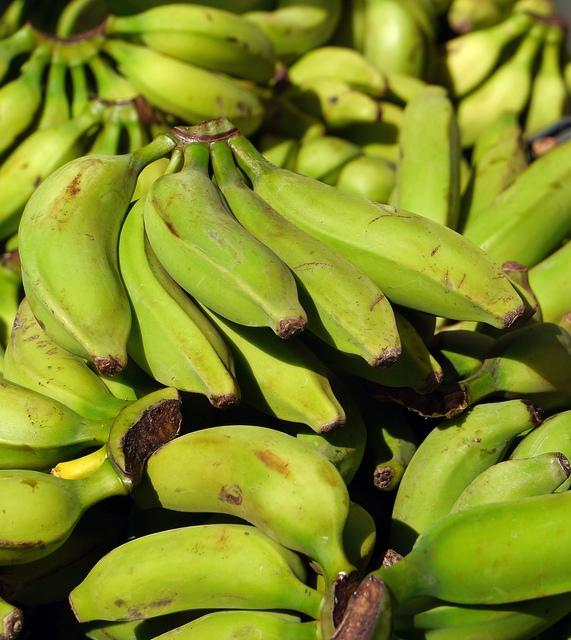banana: (228, 135, 526, 330), (209, 140, 402, 368), (130, 425, 361, 599), (18, 133, 177, 377), (116, 143, 242, 409), (143, 142, 308, 340), (68, 524, 326, 623), (180, 286, 347, 435), (388, 399, 544, 558), (368, 490, 570, 610), (3, 296, 137, 420), (100, 38, 264, 136), (106, 3, 288, 89), (0, 458, 130, 566), (459, 142, 568, 270), (2, 104, 102, 242), (298, 302, 444, 395), (322, 362, 421, 492), (454, 19, 549, 150), (444, 322, 570, 418), (0, 376, 116, 474), (278, 364, 368, 487), (396, 86, 464, 233), (430, 10, 534, 101), (455, 126, 533, 237), (450, 452, 568, 513), (240, 0, 344, 67), (280, 78, 384, 136), (0, 46, 53, 155), (474, 260, 543, 339), (392, 606, 552, 640), (149, 610, 325, 640), (287, 46, 388, 98), (508, 410, 570, 493), (362, 0, 422, 82), (526, 27, 568, 134), (26, 42, 71, 138), (430, 330, 496, 392), (527, 241, 571, 325), (294, 136, 366, 187), (79, 41, 138, 101), (396, 3, 438, 85), (258, 95, 324, 146), (69, 60, 103, 157), (336, 100, 402, 146), (336, 156, 396, 204), (0, 250, 26, 350), (82, 98, 125, 156), (344, 502, 377, 577), (122, 94, 163, 154), (56, 0, 110, 41), (50, 442, 108, 480), (1, 24, 36, 82), (448, 1, 504, 35), (260, 133, 300, 172), (386, 73, 429, 104), (0, 0, 29, 40), (0, 596, 24, 640), (351, 0, 365, 55), (431, 0, 453, 24), (564, 62, 570, 96)
